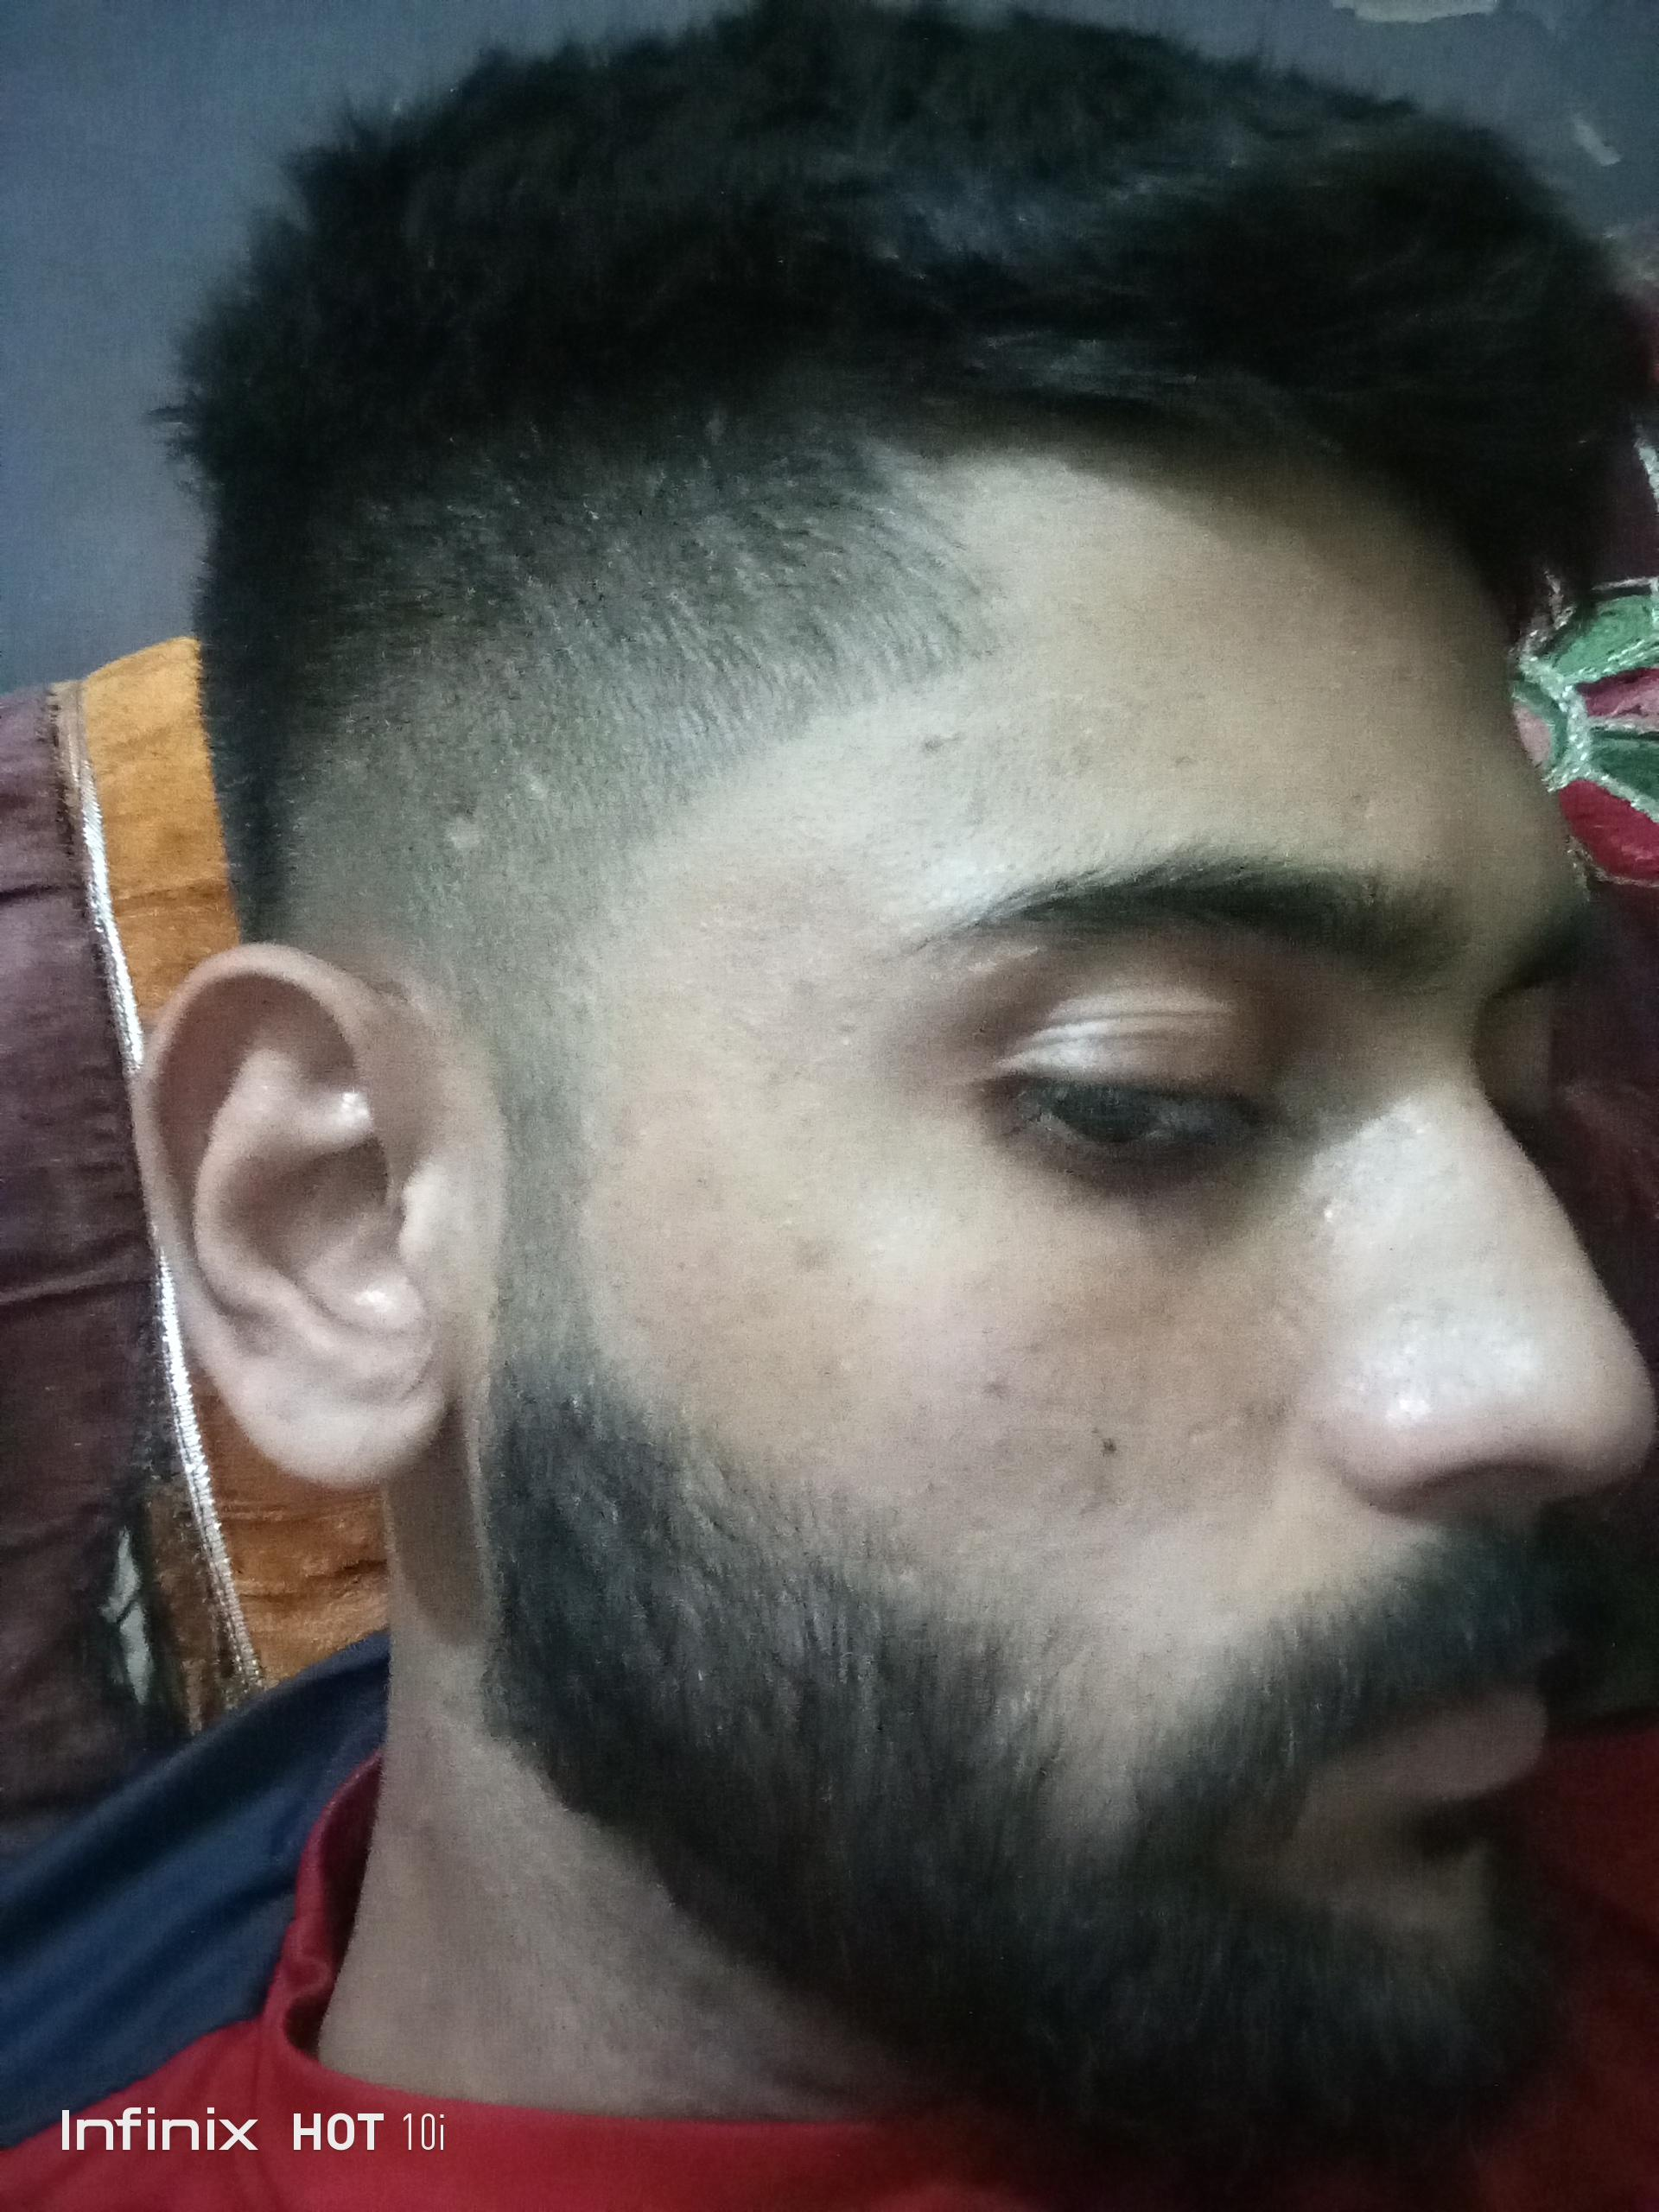Acne: (1068, 1404, 1117, 1467), (805, 1353, 864, 1404), (779, 1230, 829, 1277), (967, 1364, 1009, 1402), (728, 1008, 765, 1050), (786, 967, 826, 1001)
